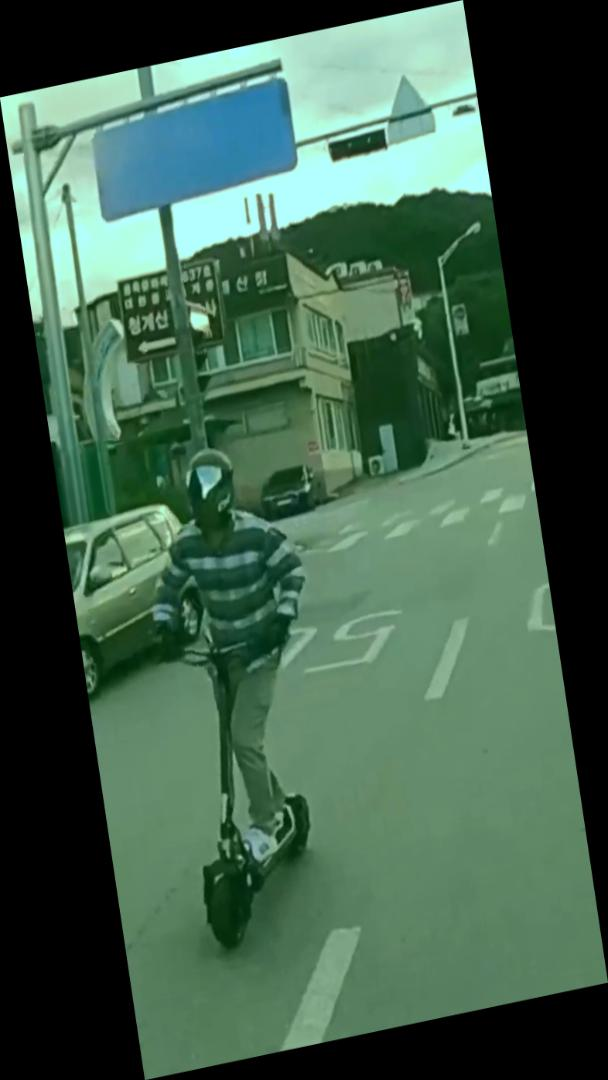helmet: (125, 430, 360, 957)
